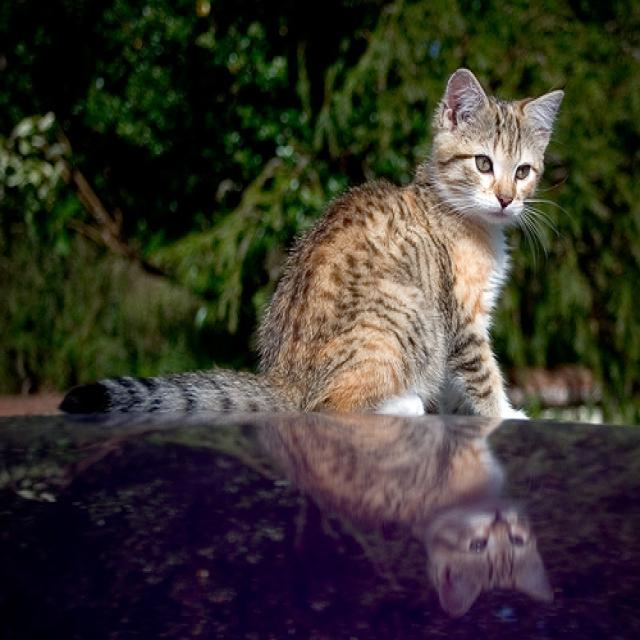cat: (58, 67, 570, 420)
